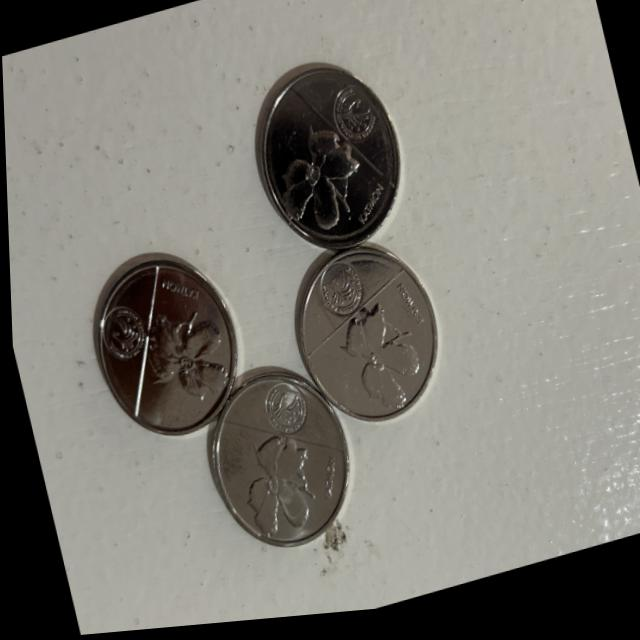25Cent_New_Back: (218, 423, 338, 559), (260, 116, 376, 250), (315, 292, 426, 422), (133, 296, 237, 415)
